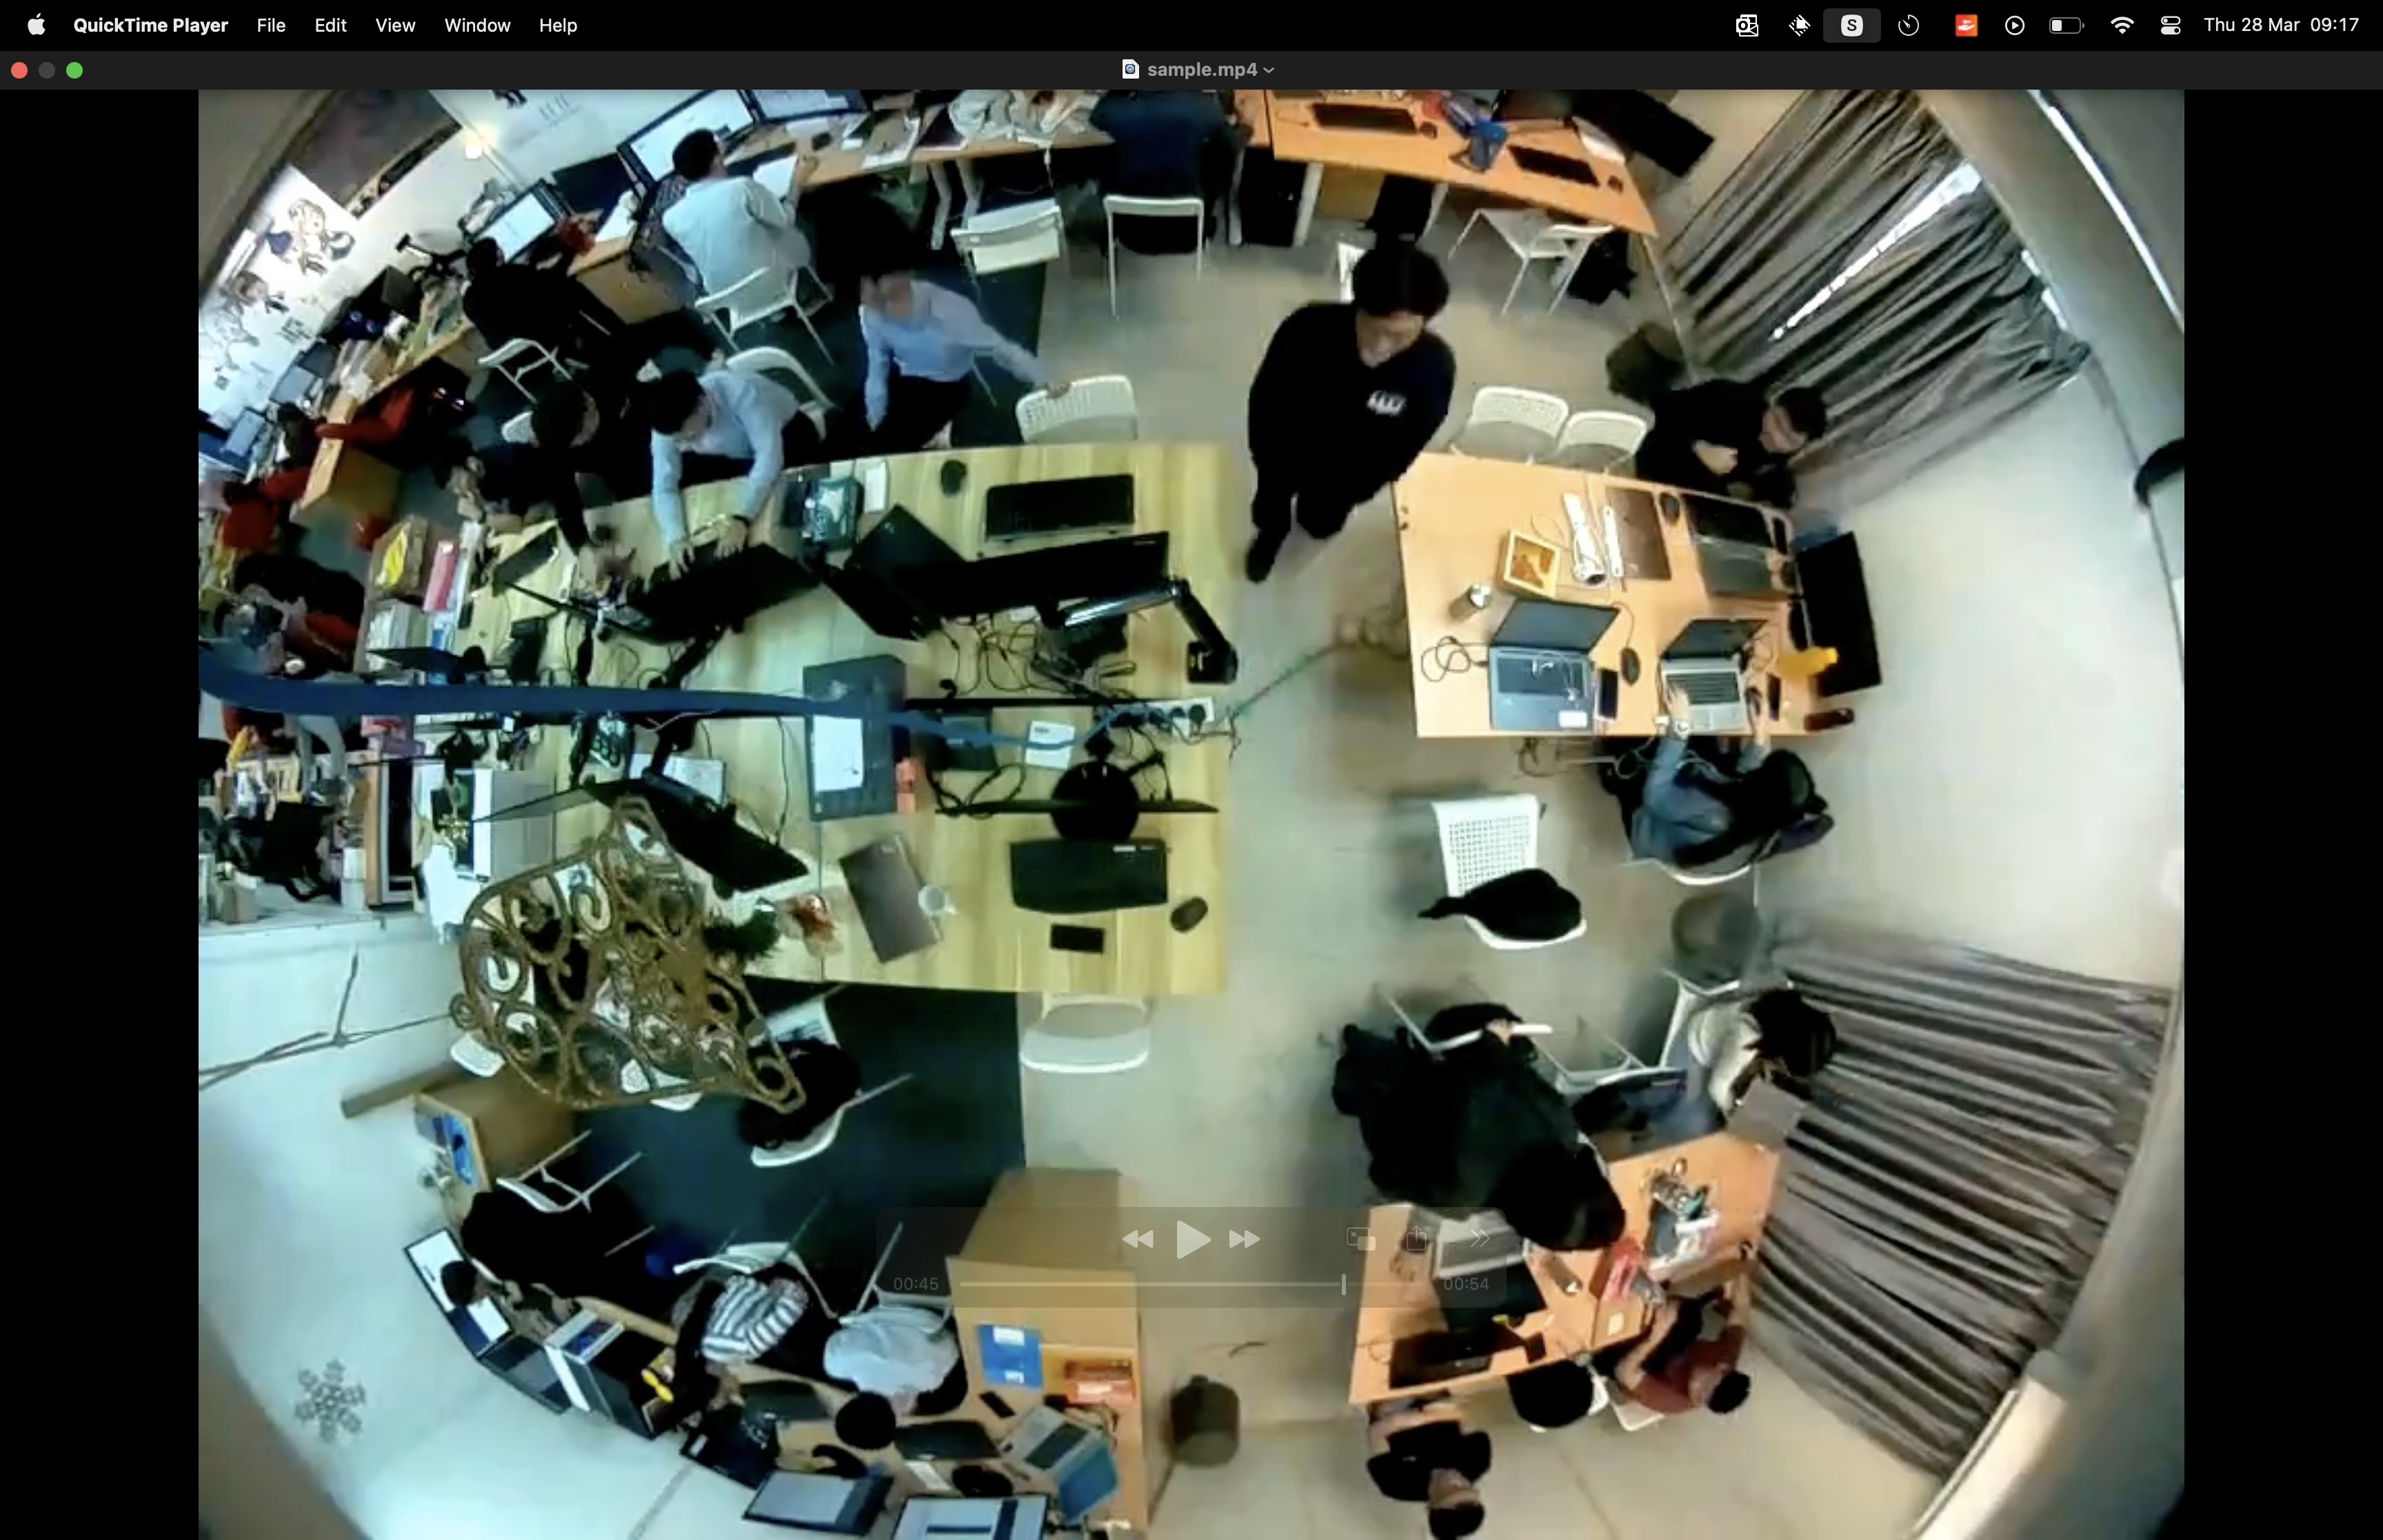Staff: (1238, 238, 1476, 585)
